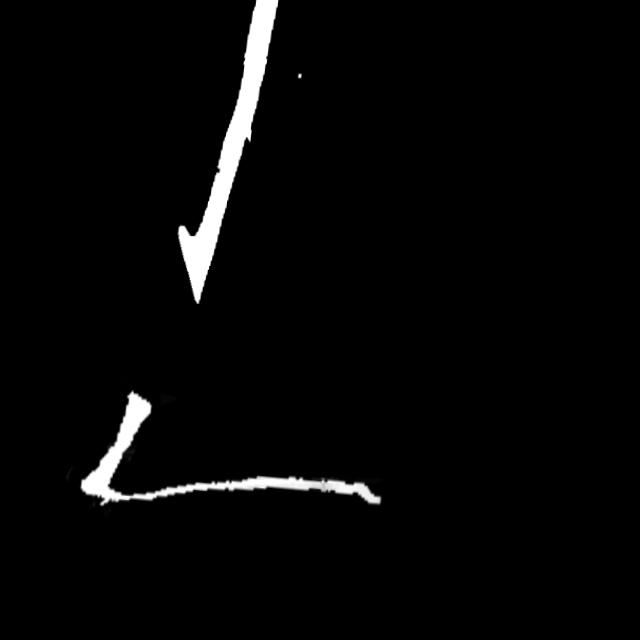sup_pli: (99, 489, 114, 511)
